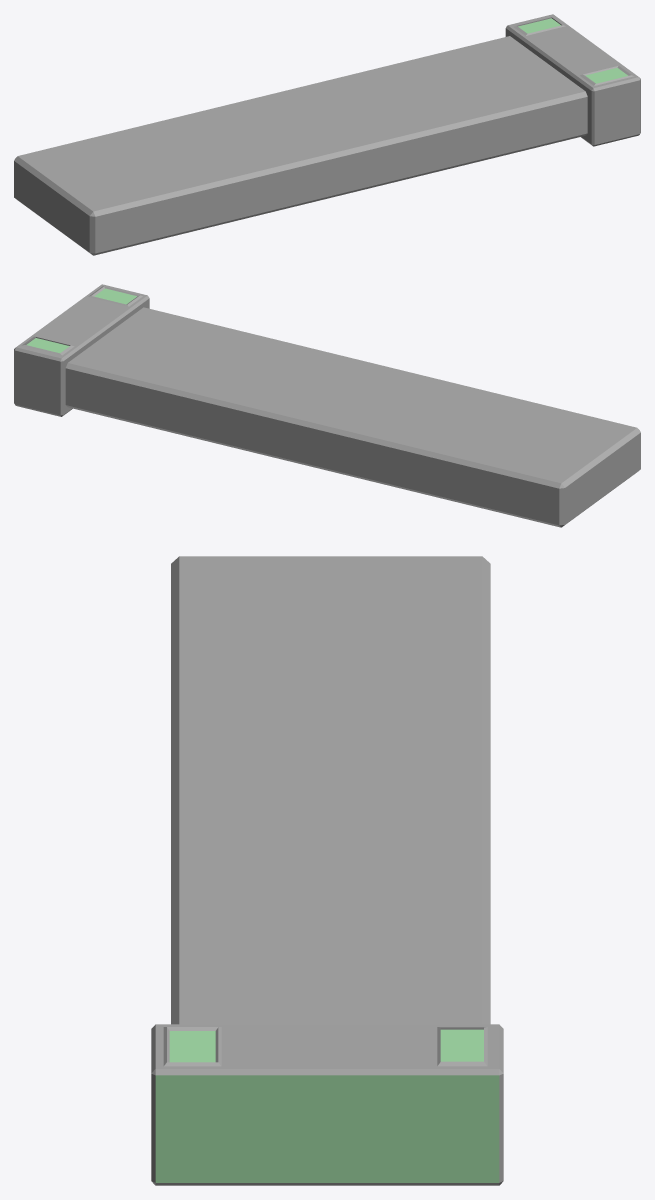
File: GR - Platform.fbx
3 renders of one model, top to bottom at view 1: azimuth 30°, elevation 25°; view 2: azimuth 150°, elevation 25°; view 3: azimuth 270°, elevation 25°, orthographic. The views are drawn at different scales.
Parts seen in each view (by area): view 1: pCube846; view 2: pCube846; view 3: pCube846.
Boxes of the visible parts, x1,y1,x2,y2 form: pCube846: (14,14,640,255); pCube846: (14,284,640,527); pCube846: (151,556,503,1185).
Bounding box in the file's own units: 15.88 × 1.65 × 4.44.
